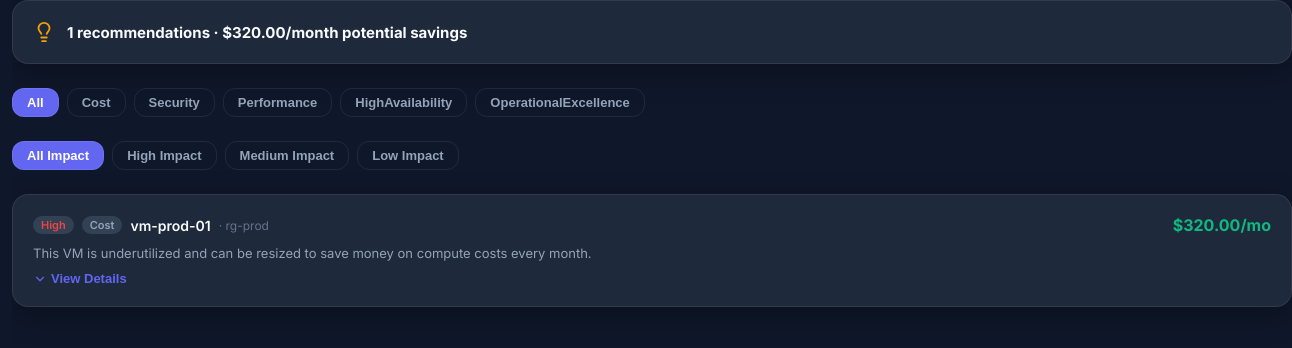
AdvisorPanel › View Details expands the solution text
Expected: the text "vm-prod-01" is shown, [130,216,211,234]
Click the button "View Details" at x=80, y=278, box [33,271,127,286]
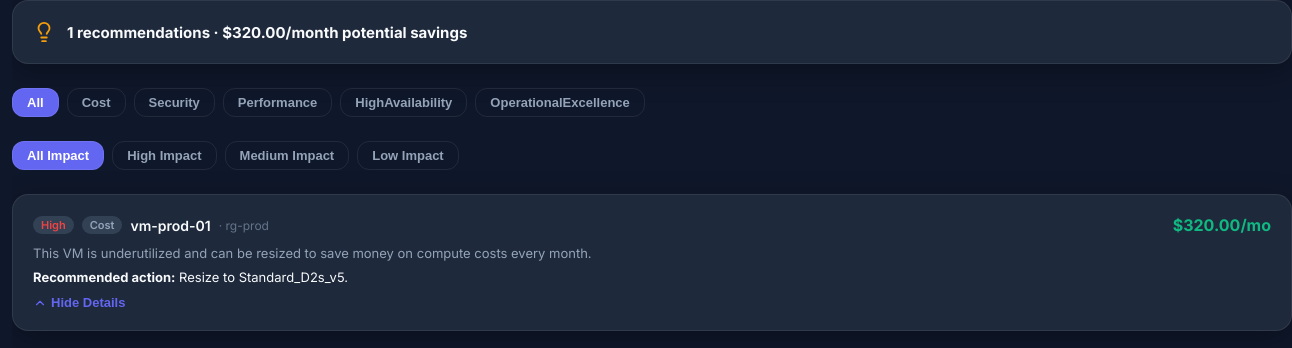
Expected: the text "Recommended action:" is shown, [33,269,175,285]
